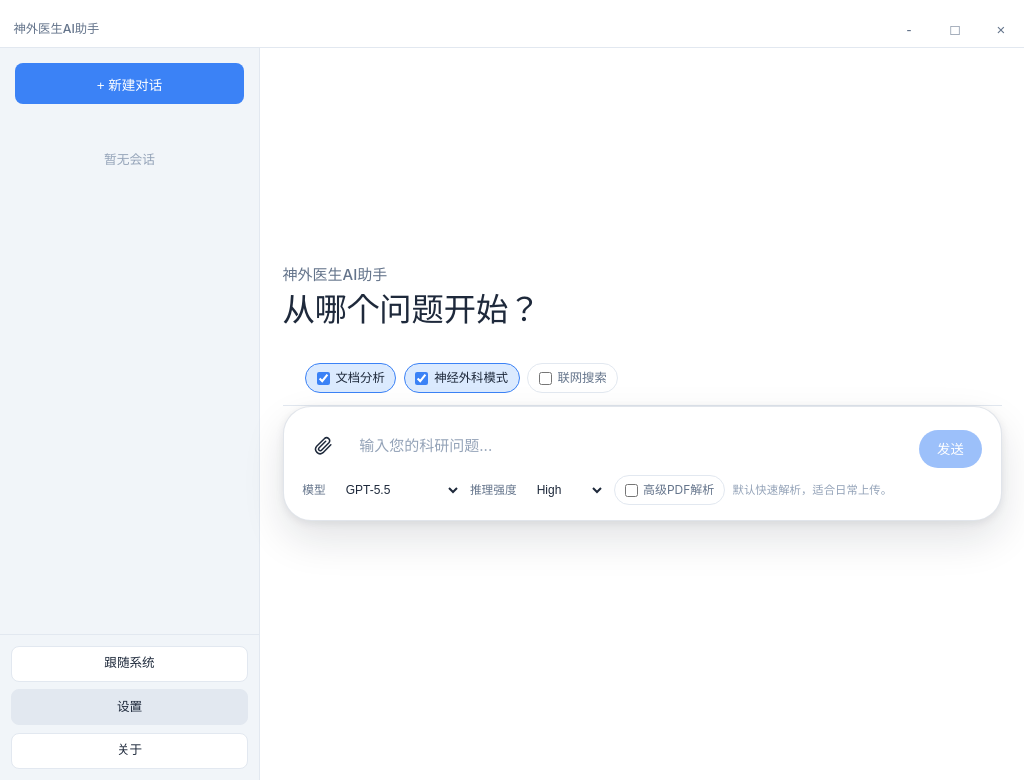
Test case: App settings controls › closes settings after a successful save without an alert
Click the button "设置". click: (130, 707)
box: x1=11 y1=689 x2=248 y2=725
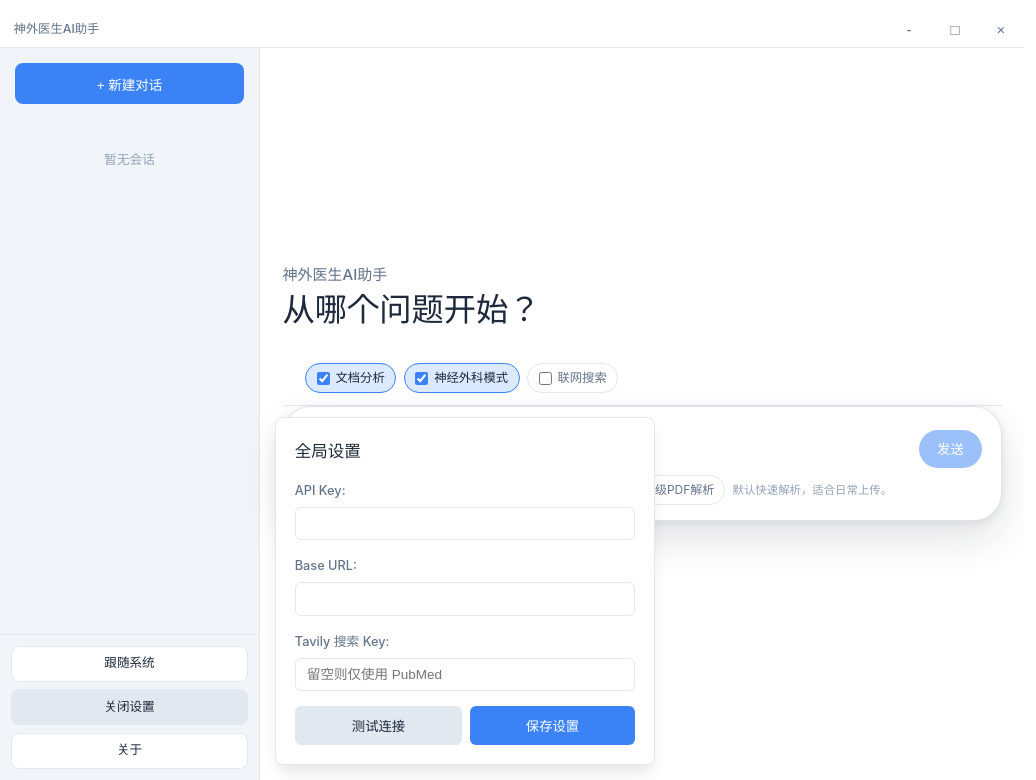
Click the button "保存设置". click: (553, 726)
box: x1=470 y1=706 x2=635 y2=745
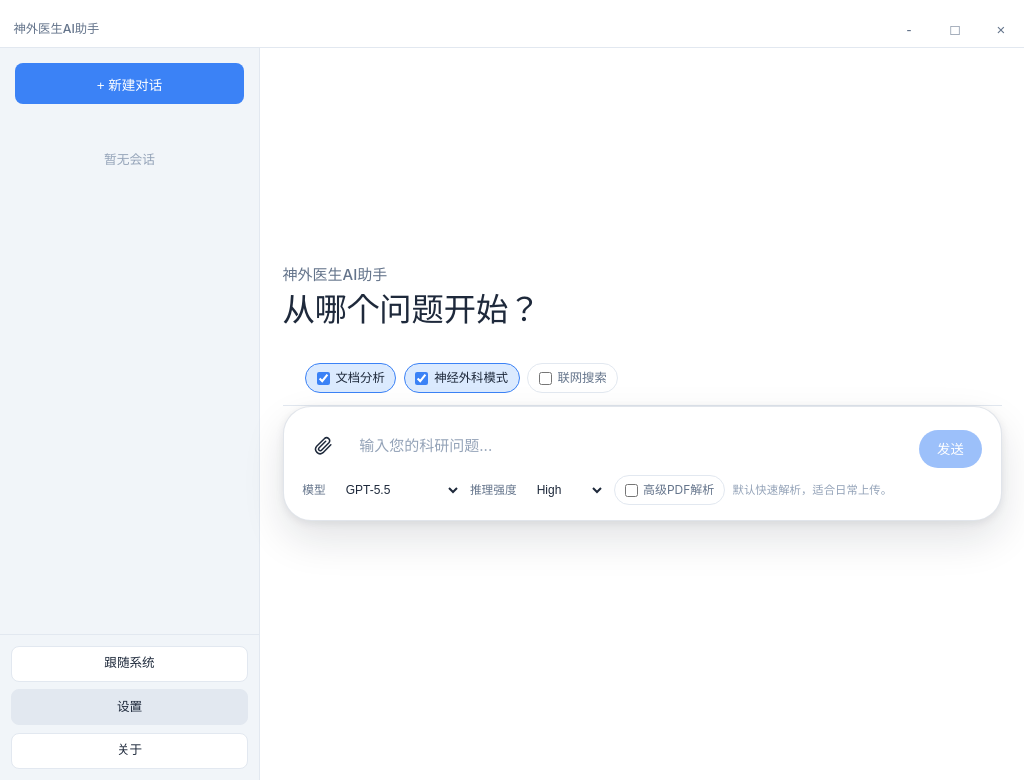
Check: the heading "全局设置" is gone
